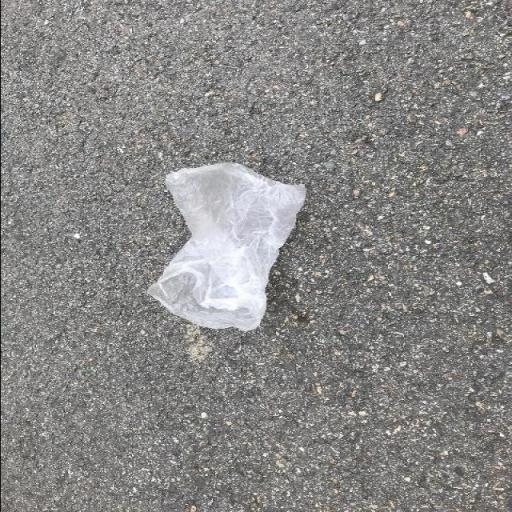plastic-bag: (146, 159, 306, 327)
